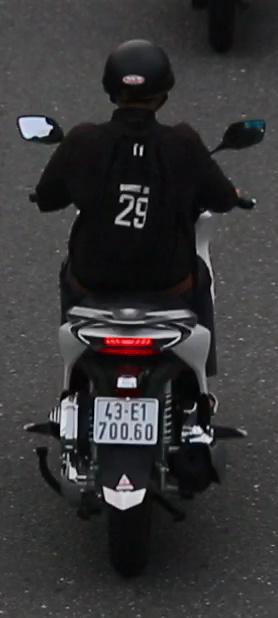LP: (91, 392, 162, 449)
helmet: (100, 35, 181, 127)
